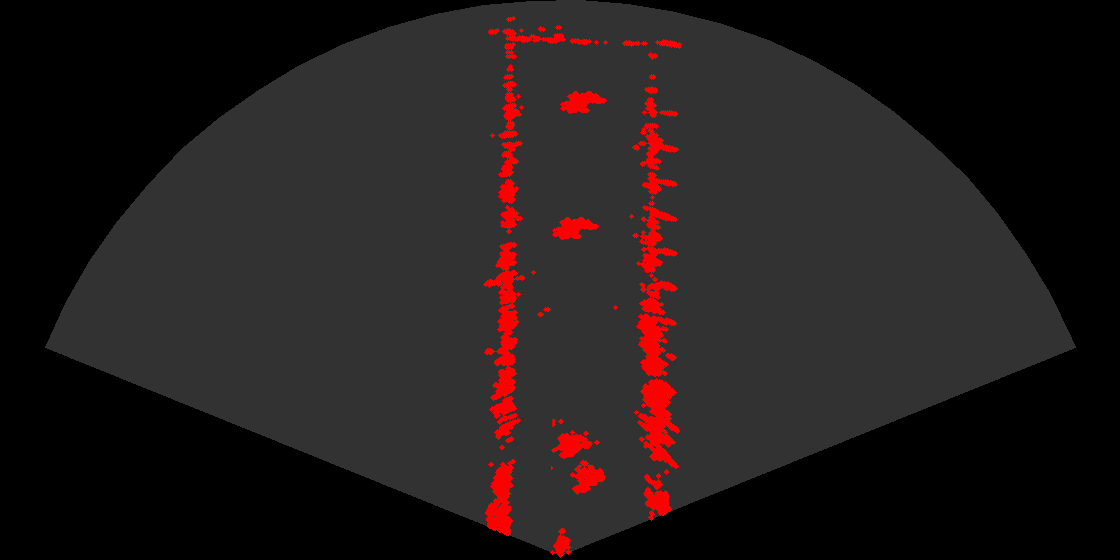AUV: (554, 89, 610, 121), (546, 215, 602, 247)
cage: (551, 419, 614, 503)
